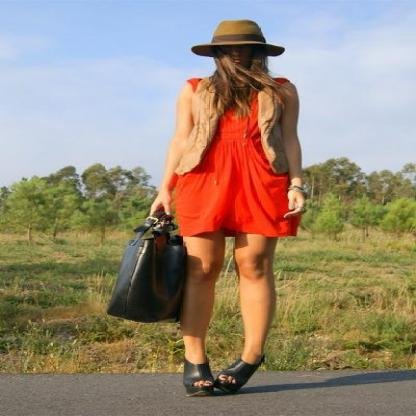bag: (107, 225, 193, 323)
dress: (167, 108, 300, 241)
hat: (191, 19, 284, 62)
jacket: (166, 76, 292, 187)
shoe: (176, 358, 261, 396)
